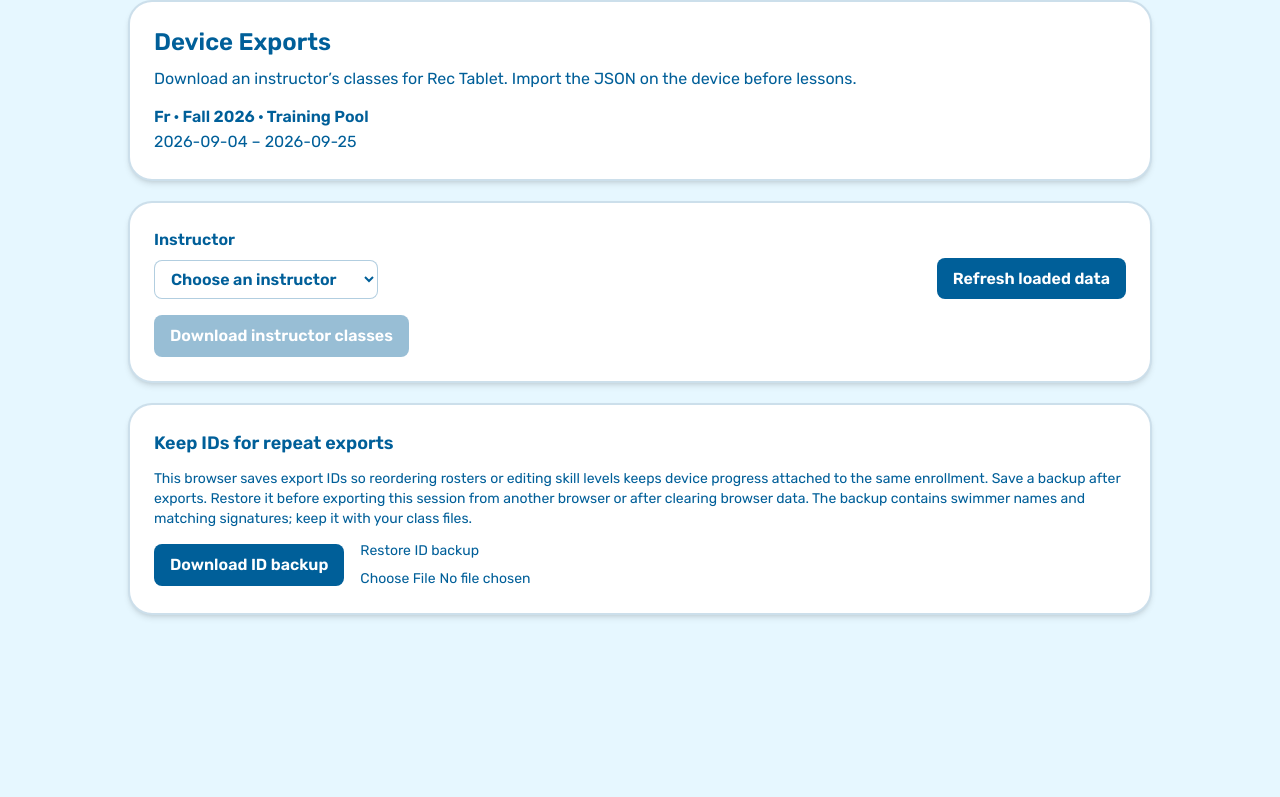
Test: does not download if browser persistence fails
The image size is (1280, 797).
Select "Alex" in the dropdown: (266, 280) [154,260,378,299]
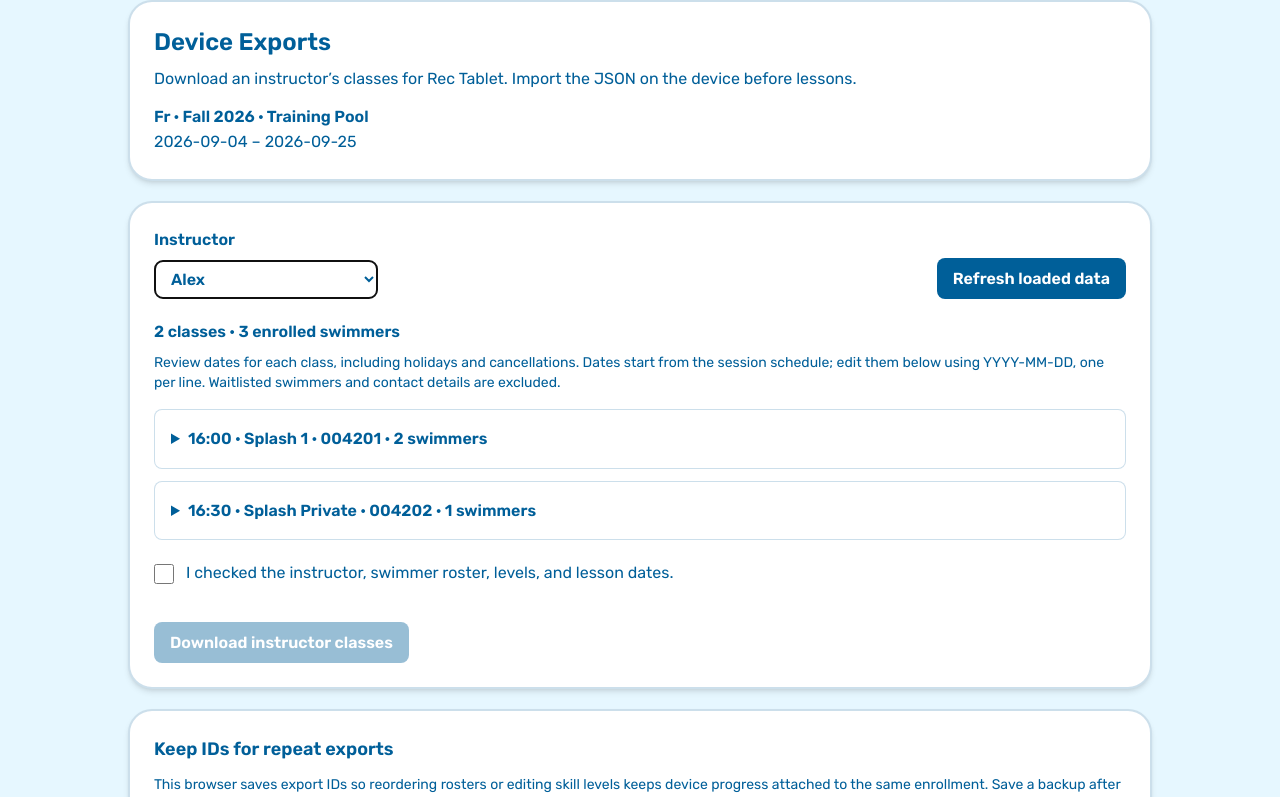
Click the checkbox: (164, 574) [154,564,174,584]
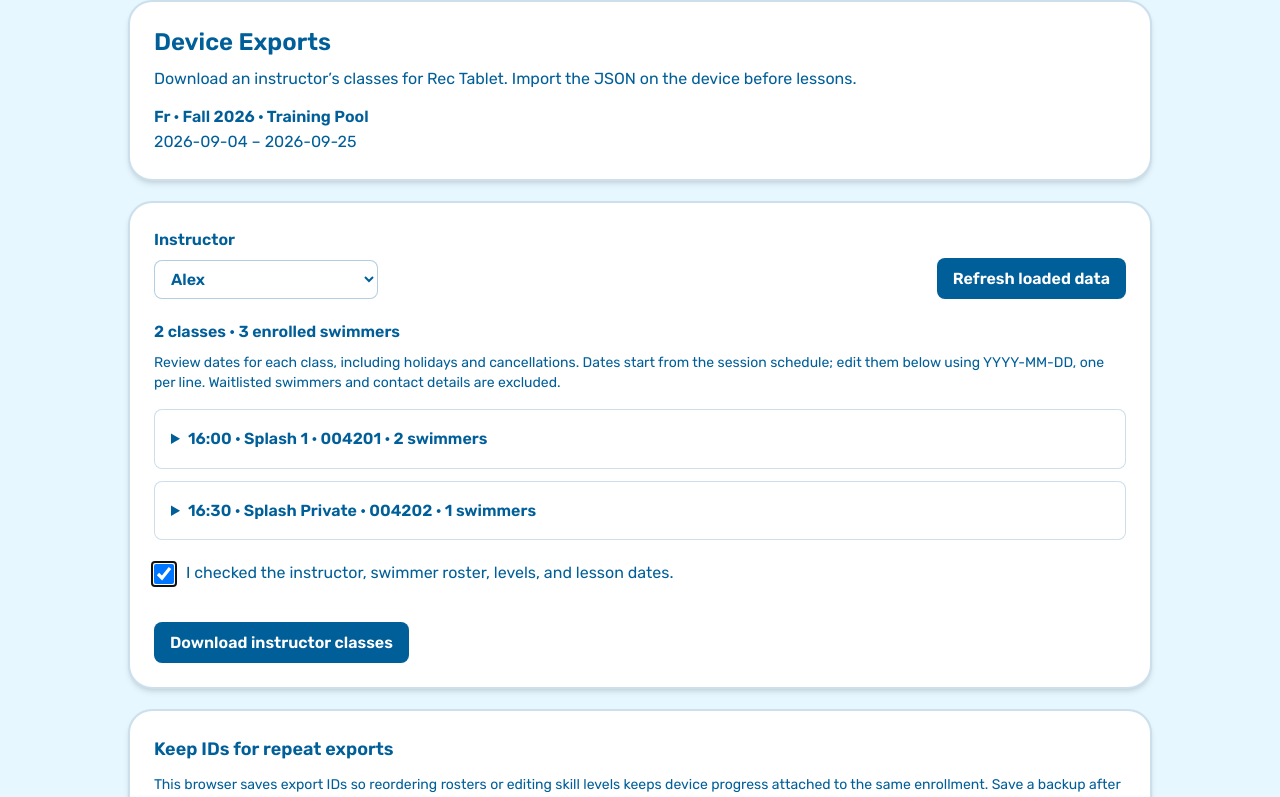
Click the button "Download instructor classes": (281, 643) [154,622,409,663]
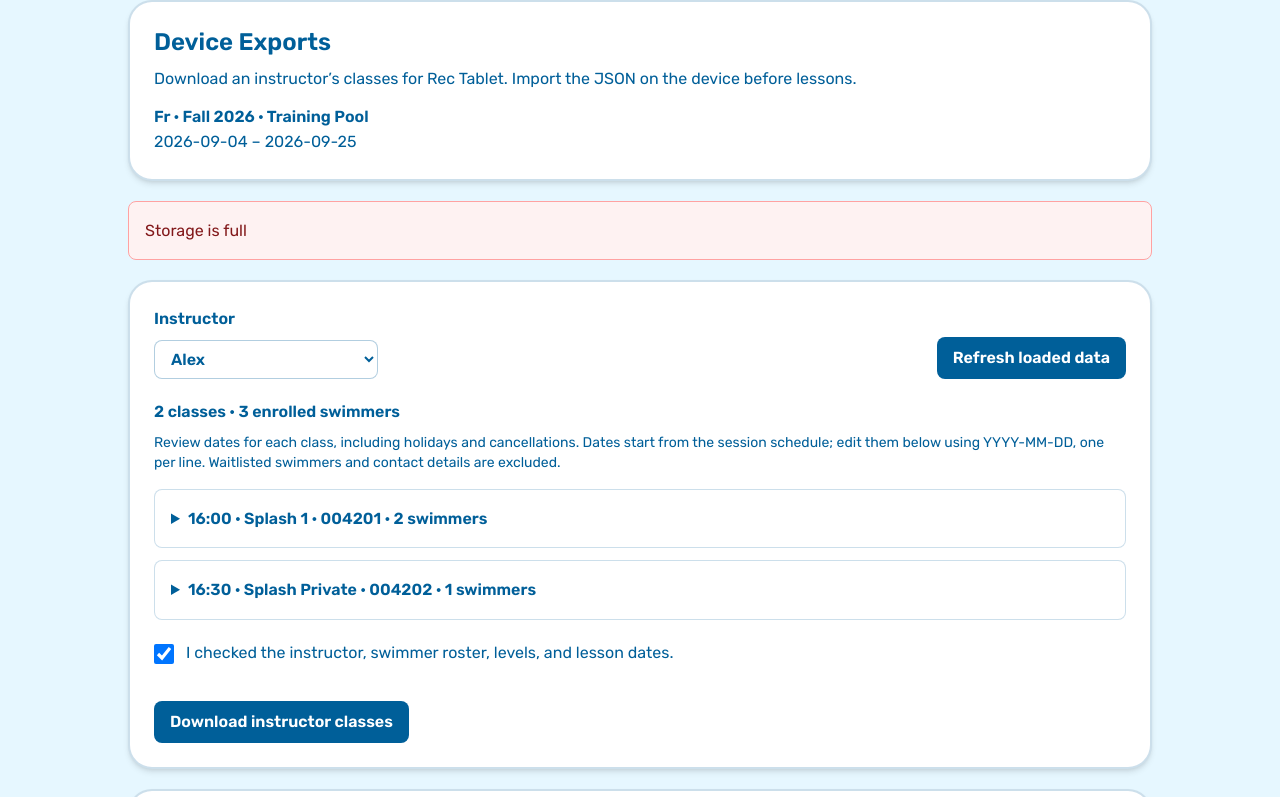
Now the message reads "Storage is full", box [145,221,247,240]
